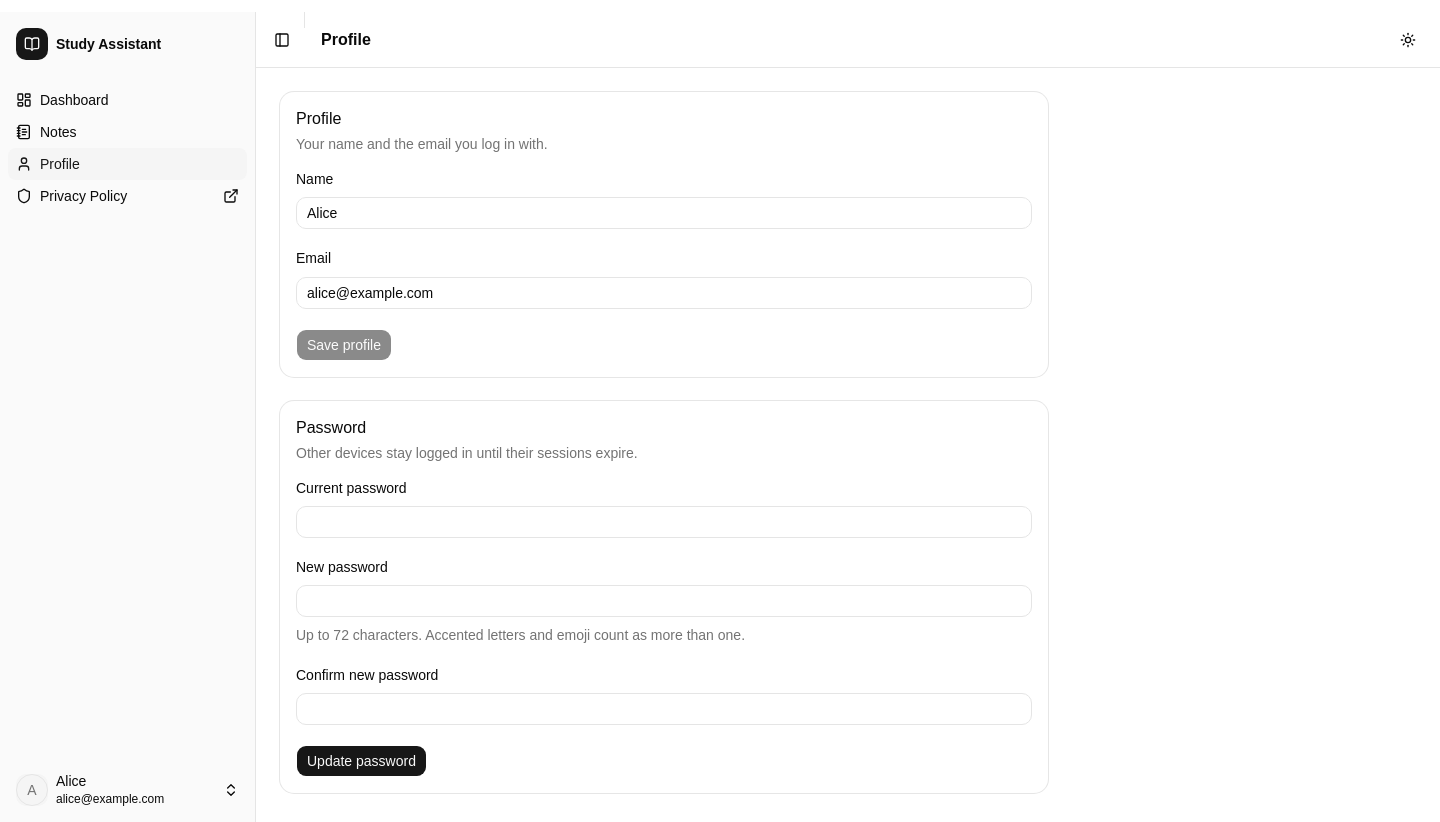
Test: profile page › changes the password
Type "correct horse battery staple" into the password field labelled "Current password" at (664, 522), box [296,506,1032,538]
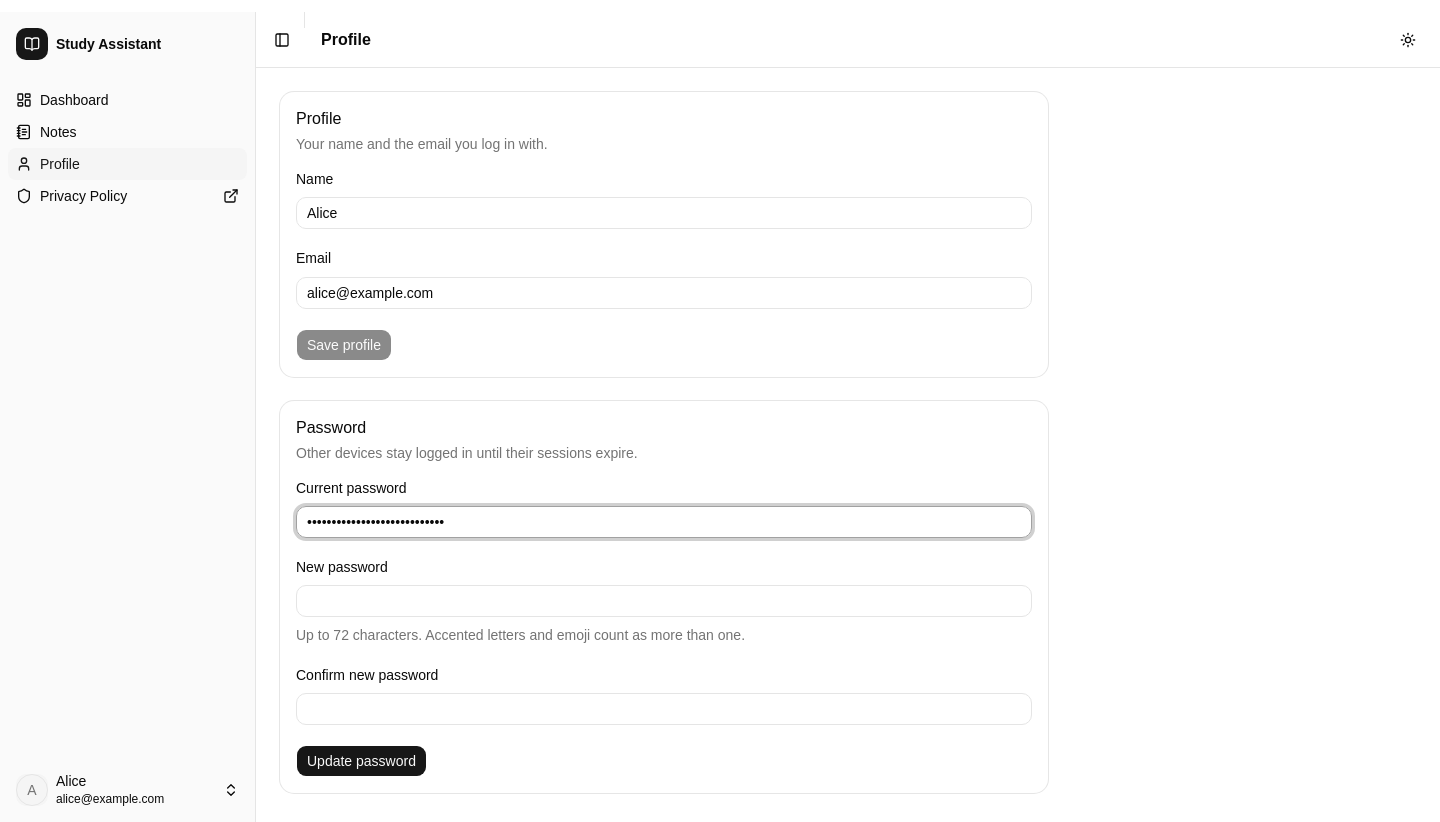
Type "new secret" into the password field labelled "New password" at (664, 601), box [296,585,1032,617]
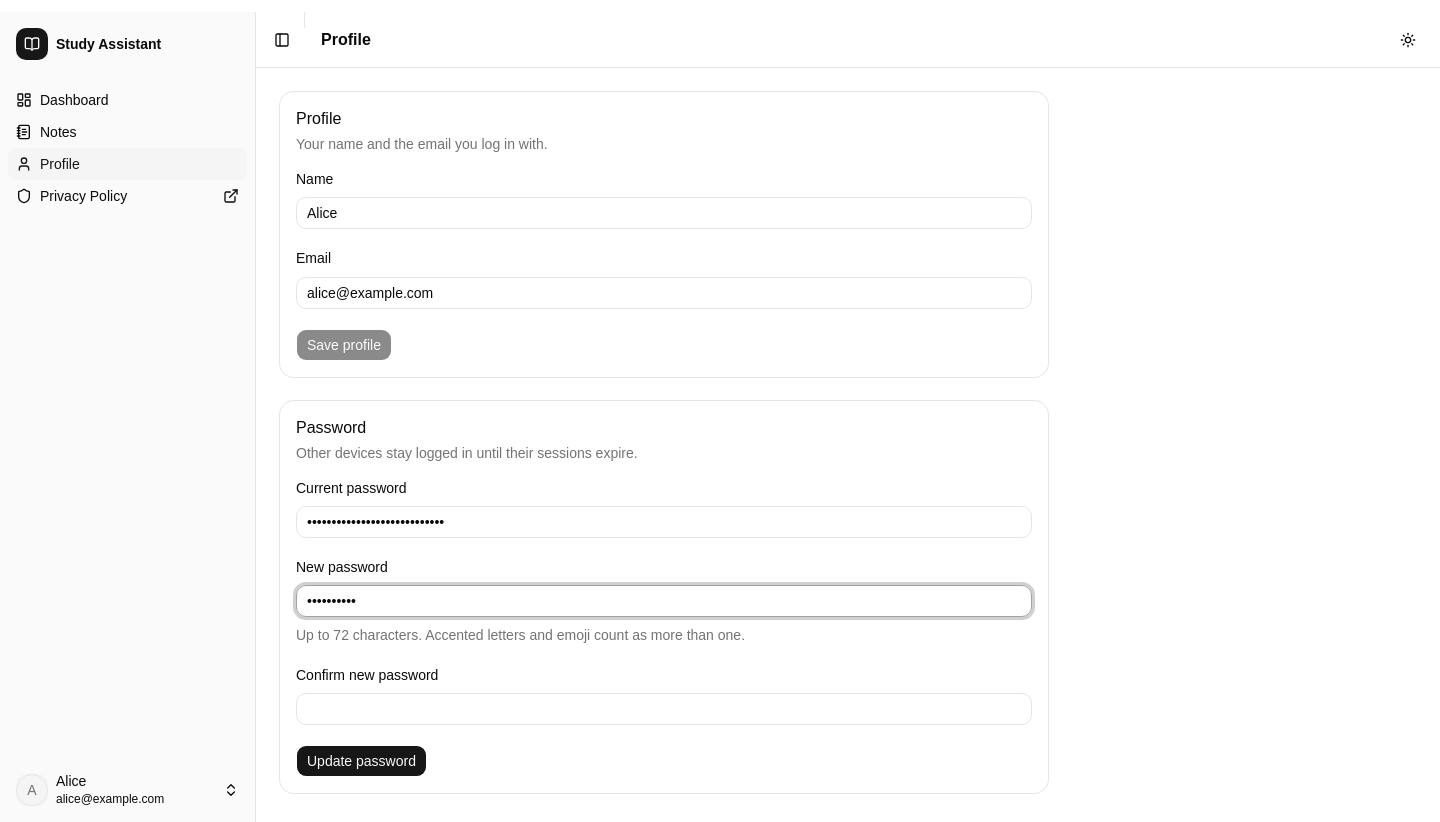
Type "new secret" into the password field labelled "Confirm new password" at (664, 709), box [296,693,1032,725]
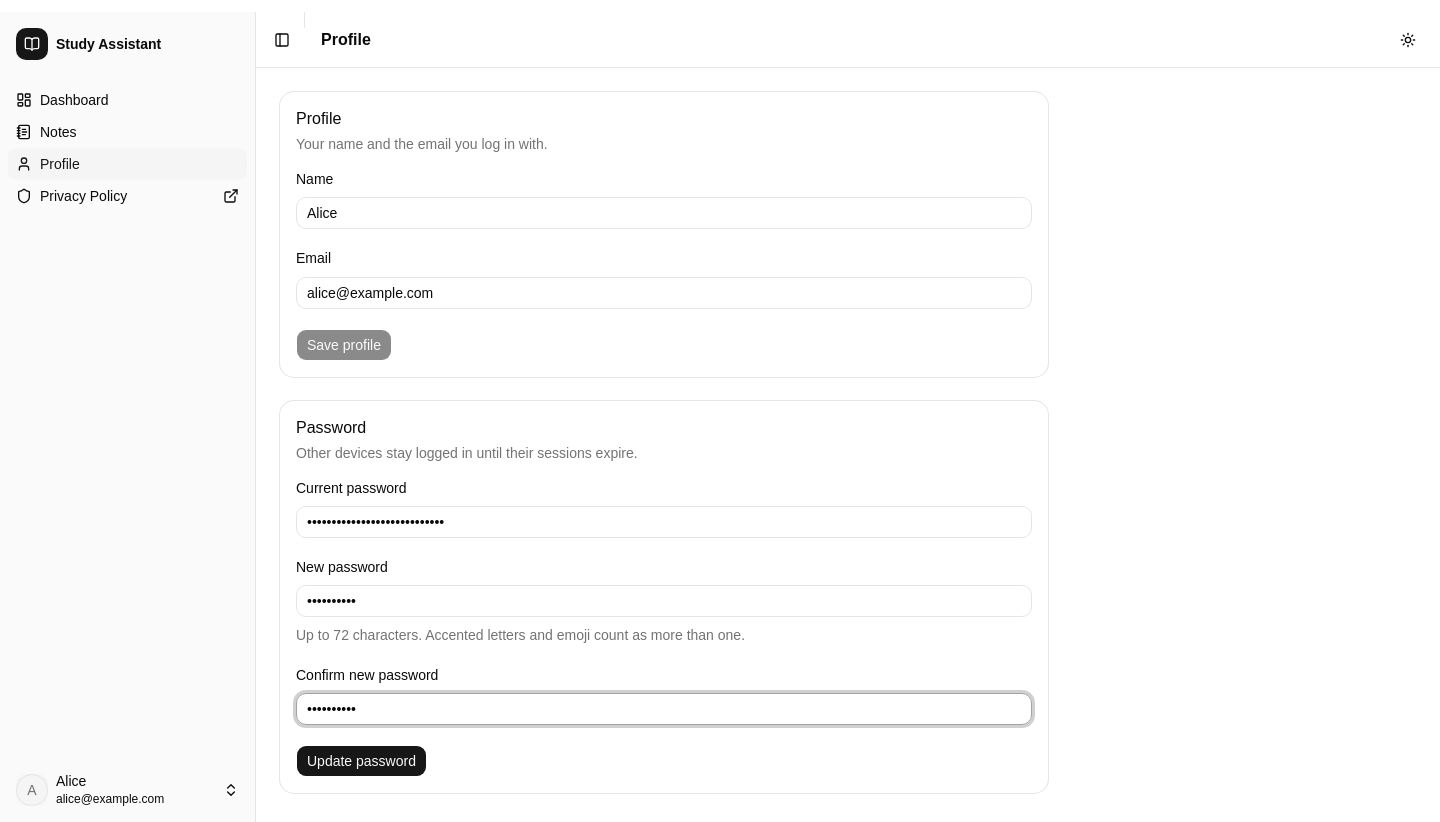
Click the button "Update password" at (362, 761), box [296,745,427,777]
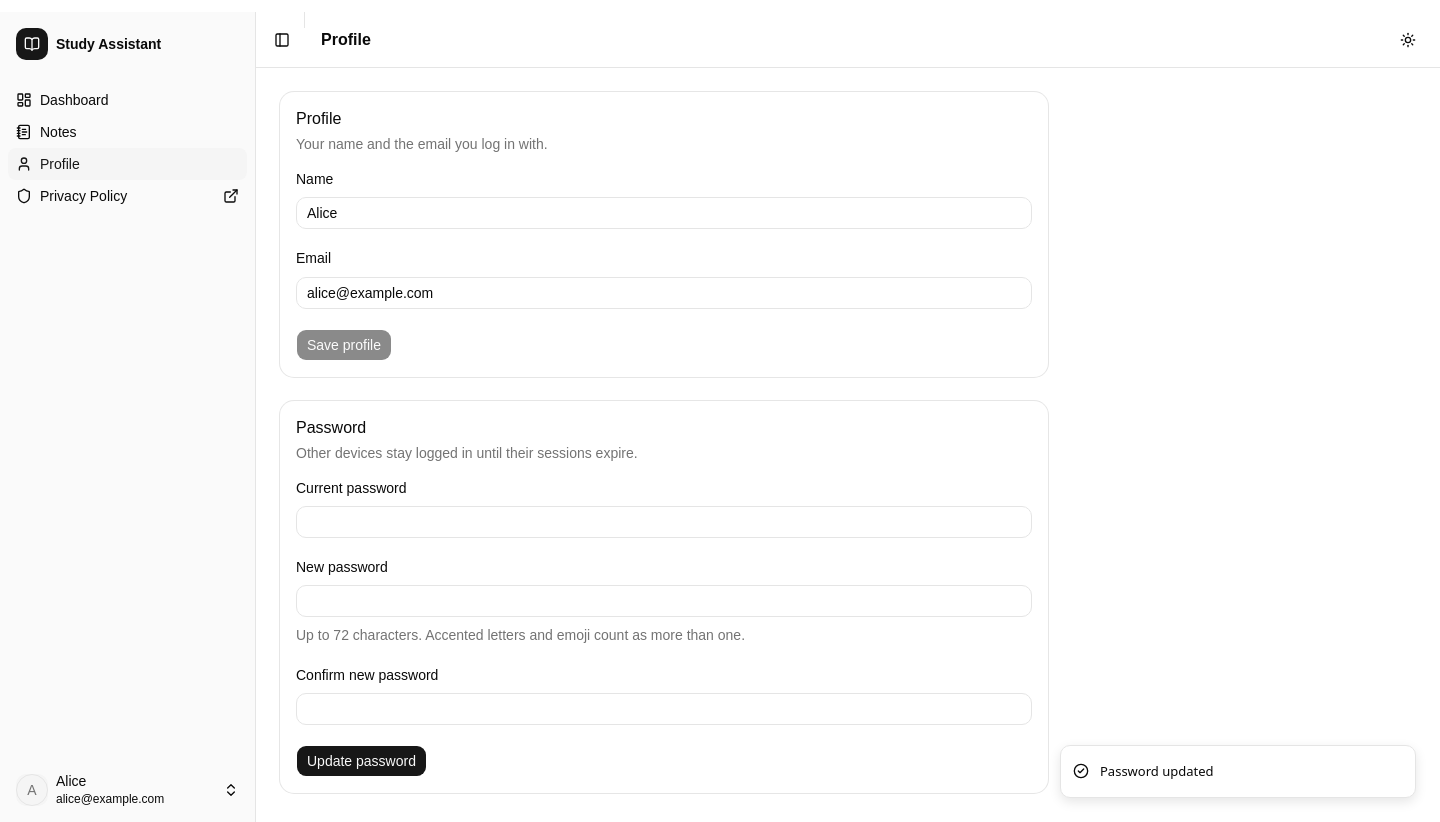
Check: the text "Password updated" is shown, box [1100,762,1214,781]
Check: the password field labelled "Current password" is empty, box [296,506,1032,538]
